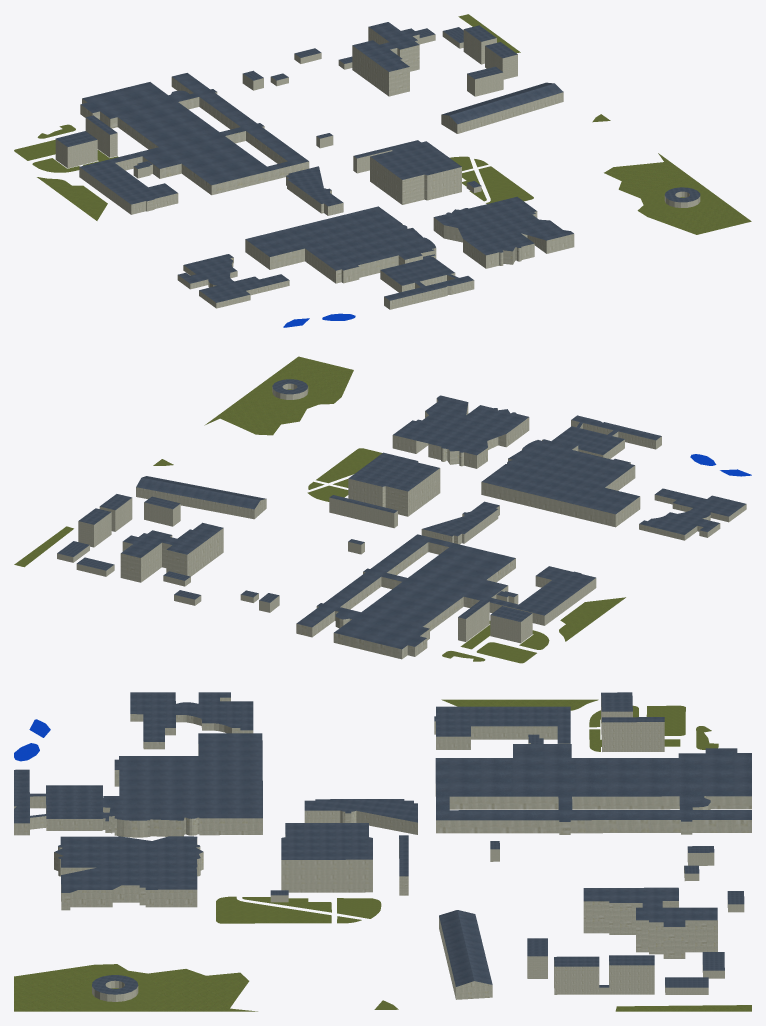
File: LinkopingSmall3D.fbx
The picture shows the model from 3 angles, top to bottom: view 1: azimuth 30°, elevation 25°; view 2: azimuth 150°, elevation 25°; view 3: azimuth 270°, elevation 25°; orthographic projection. The views are drawn at different scales.
Visible parts, largest first — view 1: B-huset, D-huset, Key-huset, Studenthuset, element.1347, Storgården, E-huset, I-huset, Temahuset, element.007, Zenit, L-huset (+10 smaller); view 2: B-huset, D-huset, Key-huset, Storgården, Studenthuset, element.1347, Temahuset, E-huset, element.007, I-huset, Zenit, element.643 (+11 smaller); view 3: B-huset, D-huset, Key-huset, Storgården, element.1347, Studenthuset, E-huset, Temahuset, I-huset, element.007, Zenit, element.102 (+16 smaller).
Part boxes in pixels (x1=…): B-huset: x1=80, y1=73, x2=309, y2=195; D-huset: x1=245, y1=206, x2=436, y2=283; Key-huset: x1=433, y1=196, x2=574, y2=268; Studenthuset: x1=370, y1=141, x2=461, y2=204; element.1347: x1=604, y1=153, x2=751, y2=234; Storgården: x1=352, y1=22, x2=419, y2=96; E-huset: x1=79, y1=152, x2=178, y2=214; I-huset: x1=380, y1=254, x2=474, y2=309; Temahuset: x1=177, y1=254, x2=289, y2=308; element.007: x1=441, y1=82, x2=563, y2=133; Zenit: x1=286, y1=166, x2=343, y2=215; L-huset: x1=55, y1=131, x2=97, y2=168; B-huset: x1=296, y1=534, x2=515, y2=659; D-huset: x1=481, y1=439, x2=640, y2=527; Key-huset: x1=392, y1=395, x2=529, y2=468; Storgården: x1=120, y1=522, x2=223, y2=582; Studenthuset: x1=348, y1=452, x2=440, y2=516; element.1347: x1=204, y1=356, x2=353, y2=435; Temahuset: x1=639, y1=488, x2=746, y2=540; E-huset: x1=487, y1=566, x2=596, y2=625; element.007: x1=136, y1=476, x2=266, y2=519; I-huset: x1=551, y1=415, x2=661, y2=458; Zenit: x1=421, y1=501, x2=499, y2=544; element.643: x1=329, y1=495, x2=397, y2=528; B-huset: x1=435, y1=744, x2=751, y2=834; D-huset: x1=103, y1=733, x2=262, y2=837; Key-huset: x1=54, y1=836, x2=203, y2=910; Storgården: x1=583, y1=887, x2=717, y2=958; element.1347: x1=14, y1=965, x2=257, y2=1011; Studenthuset: x1=281, y1=823, x2=372, y2=892; E-huset: x1=434, y1=706, x2=570, y2=749; Temahuset: x1=130, y1=692, x2=253, y2=749; I-huset: x1=14, y1=769, x2=109, y2=835; element.007: x1=439, y1=910, x2=492, y2=999; Zenit: x1=304, y1=799, x2=417, y2=834; element.102: x1=602, y1=717, x2=664, y2=751.
Size of the model in its own units: 40000 by 1957 by 40000.
Materials: 4 (4 with a texture image).
